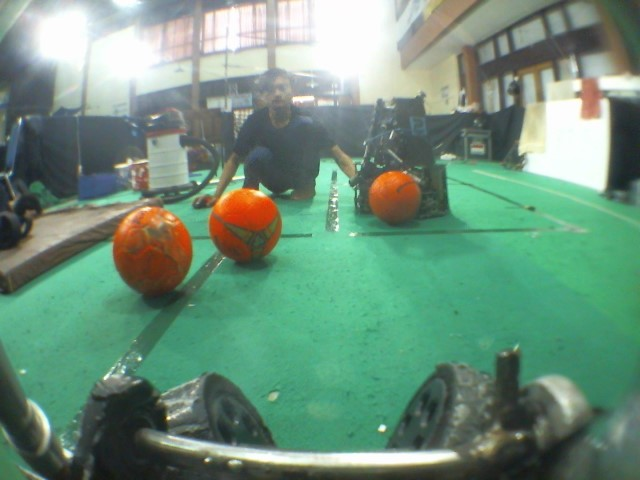ball: (108, 204, 197, 303), (205, 186, 286, 272), (366, 167, 425, 231)
